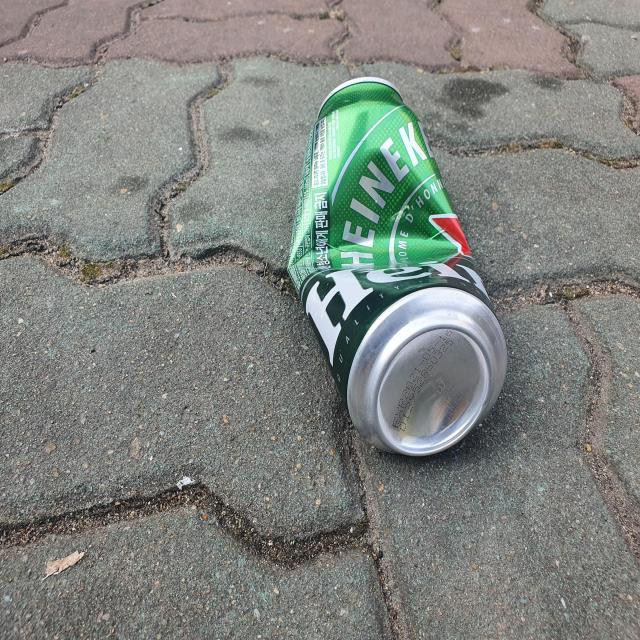can: (288, 76, 508, 456)
